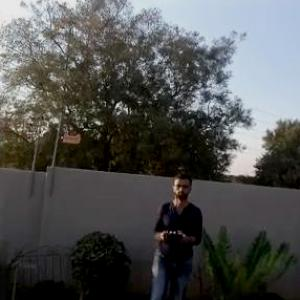follow: (142, 166, 203, 299)
